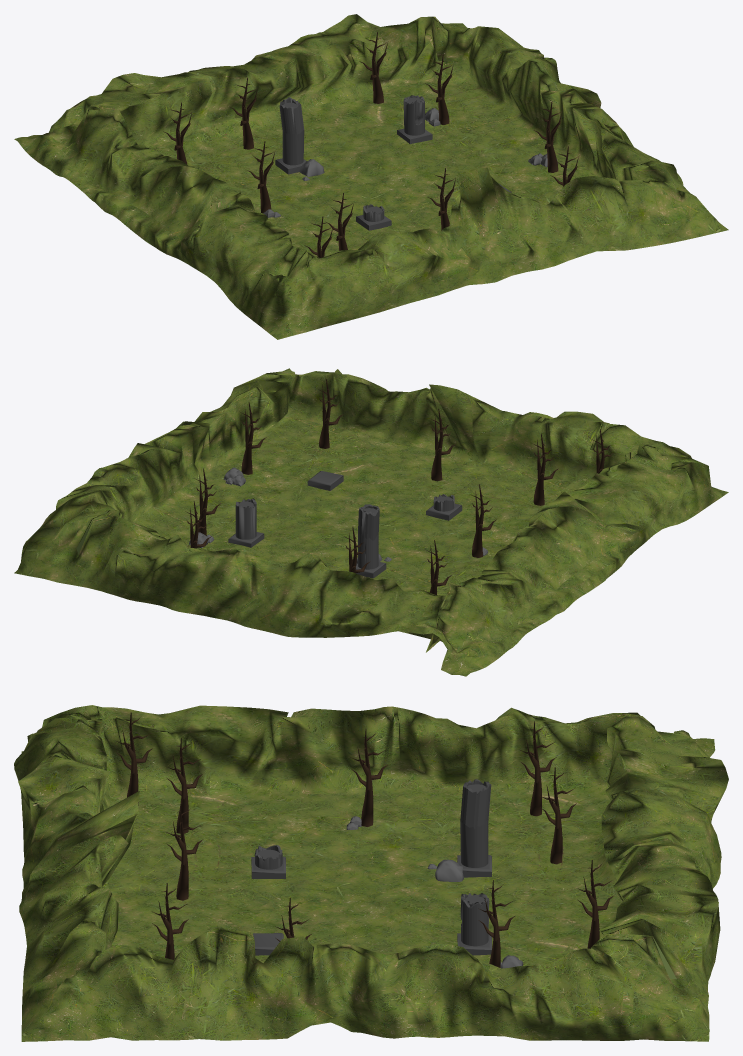
Rendered from mapa_up.glb.
3 renders of one model, top to bottom at view 1: azimuth 30°, elevation 25°; view 2: azimuth 150°, elevation 25°; view 3: azimuth 270°, elevation 25°, orthographic. The views are drawn at different scales.
Parts seen in each view (by area): view 1: Plane, Cylinder.001, Cylinder.002, lowpoly_dead_tree.obj, lowpoly_dead_tree.obj.006, lowpoly_dead_tree.obj.005, lowpoly_dead_tree.obj.007, lowpoly_dead_tree.obj.001; view 2: Plane, Cylinder.001, Cylinder.002, lowpoly_dead_tree.obj.006, lowpoly_dead_tree.obj.005, lowpoly_dead_tree.obj.002, lowpoly_dead_tree.obj.009, lowpoly_dead_tree.obj.004, lowpoly_dead_tree.obj.001, Cube_Cube.011; view 3: Plane, Cylinder.001, Cylinder.002, lowpoly_dead_tree.obj.005, lowpoly_dead_tree.obj, lowpoly_dead_tree.obj.009, lowpoly_dead_tree.obj.008, lowpoly_dead_tree.obj.002, lowpoly_dead_tree.obj.001, lowpoly_dead_tree.obj.007, lowpoly_dead_tree.obj.003, lowpoly_dead_tree.obj.004 (+1 smaller).
Boxes of the visible parts, <box> form: Plane: <box>14,14,728,339</box>; Cylinder.001: <box>279,97,304,165</box>; Cylinder.002: <box>403,95,424,135</box>; lowpoly_dead_tree.obj: <box>230,77,257,149</box>; lowpoly_dead_tree.obj.006: <box>534,101,562,172</box>; lowpoly_dead_tree.obj.005: <box>247,141,275,213</box>; lowpoly_dead_tree.obj.007: <box>359,32,387,103</box>; lowpoly_dead_tree.obj.001: <box>425,54,453,124</box>; Plane: <box>14,368,728,676</box>; Cylinder.001: <box>358,504,379,569</box>; Cylinder.002: <box>235,498,256,539</box>; lowpoly_dead_tree.obj.006: <box>239,402,266,474</box>; lowpoly_dead_tree.obj.005: <box>472,484,496,557</box>; lowpoly_dead_tree.obj.002: <box>532,433,558,505</box>; lowpoly_dead_tree.obj.009: <box>431,408,456,481</box>; lowpoly_dead_tree.obj.004: <box>318,379,343,448</box>; lowpoly_dead_tree.obj.001: <box>194,468,220,535</box>; Cube_Cube.011: <box>307,471,343,490</box>; Plane: <box>14,705,728,1041</box>; Cylinder.001: <box>460,779,491,867</box>; Cylinder.002: <box>460,893,489,946</box>; lowpoly_dead_tree.obj.005: <box>350,729,387,826</box>; lowpoly_dead_tree.obj: <box>540,767,576,864</box>; lowpoly_dead_tree.obj.009: <box>166,803,202,900</box>; lowpoly_dead_tree.obj.008: <box>520,721,556,816</box>; lowpoly_dead_tree.obj.002: <box>166,738,202,833</box>; lowpoly_dead_tree.obj.001: <box>478,880,514,967</box>; lowpoly_dead_tree.obj.007: <box>577,859,613,948</box>; lowpoly_dead_tree.obj.003: <box>115,712,152,805</box>; lowpoly_dead_tree.obj.004: <box>152,883,188,959</box>.
Bounding box in the file's own units: 52.06 × 8.75 × 52.03.
6 materials, 4 textured.
